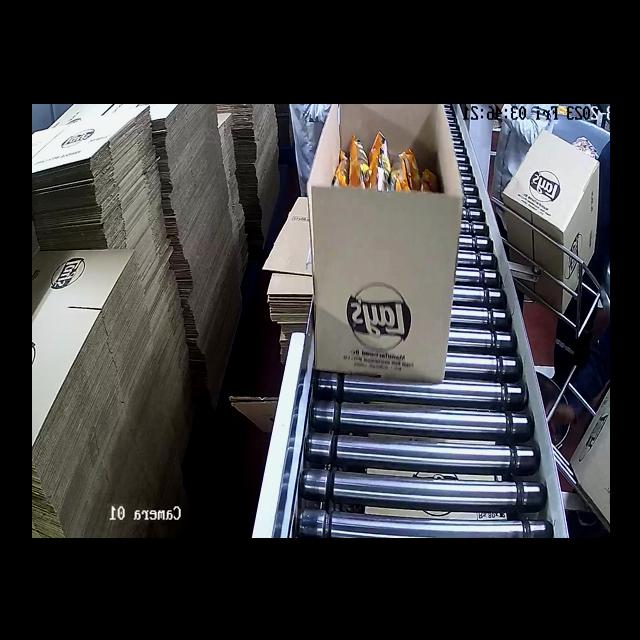cheese: (319, 131, 444, 194)
